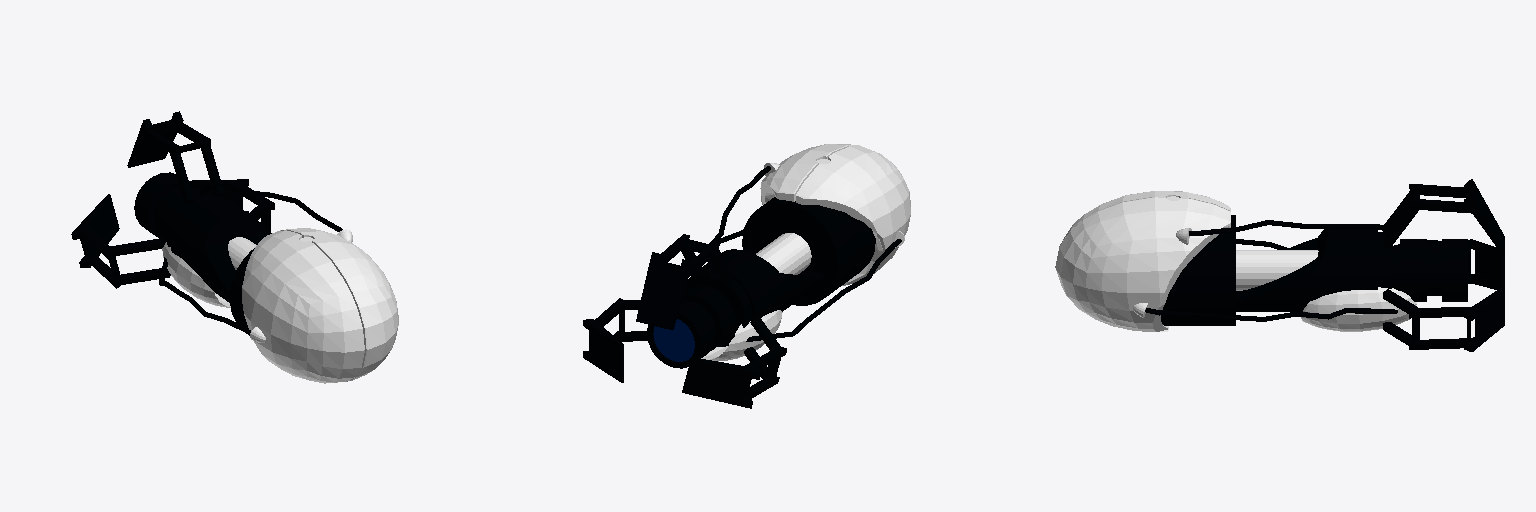
The model's file is Gun.obj.
The picture shows the model from 3 angles: view 1: azimuth 30°, elevation 25°; view 2: azimuth 150°, elevation 25°; view 3: azimuth 270°, elevation 25°; orthographic projection.
Parts seen in each view (by area): view 1: Union3, Union7, Union6, Union10, Union5, Union2, Union4, Part6, Union1, Part2; view 2: Union3, Union1, Union10, Union6, Union7, Union4, Union5, Part2, Part6, Part5, Union2, Part11; view 3: Union3, Union7, Union1, Union4, Union10, Union2, Part2, Union5, Part6, Union6, Part8, Part5.
Part boxes in pixels (x1,y1,x2,y2): Union3: (242,228,398,383); Union7: (170,196,269,302); Union6: (71,194,170,288); Union10: (127,111,223,204); Union5: (134,172,195,238); Union2: (162,242,230,307); Union4: (189,179,274,233); Part6: (155,188,200,242); Union1: (229,248,254,328); Part2: (228,237,256,269); Union3: (760,144,910,285); Union1: (742,197,875,305); Union10: (636,234,732,329); Union6: (682,317,786,408); Union7: (687,249,825,317); Union4: (583,298,647,382); Union5: (647,301,714,368); Part2: (756,233,811,274); Part6: (682,285,734,350); Part5: (684,271,751,346); Union2: (701,310,782,361); Part11: (653,319,694,361); Union3: (1055,191,1230,331); Union7: (1236,229,1377,311); Union1: (1161,215,1235,325); Union4: (1383,287,1504,351); Union10: (1383,179,1504,254); Union2: (1301,287,1416,331); Part2: (1236,250,1318,290); Union5: (1442,239,1467,301); Part6: (1400,239,1426,301); Union6: (1394,239,1504,289); Part8: (1392,246,1441,295); Part5: (1378,232,1391,288).
Size of the model in its own units: 1.56 by 1.16 by 3.41.